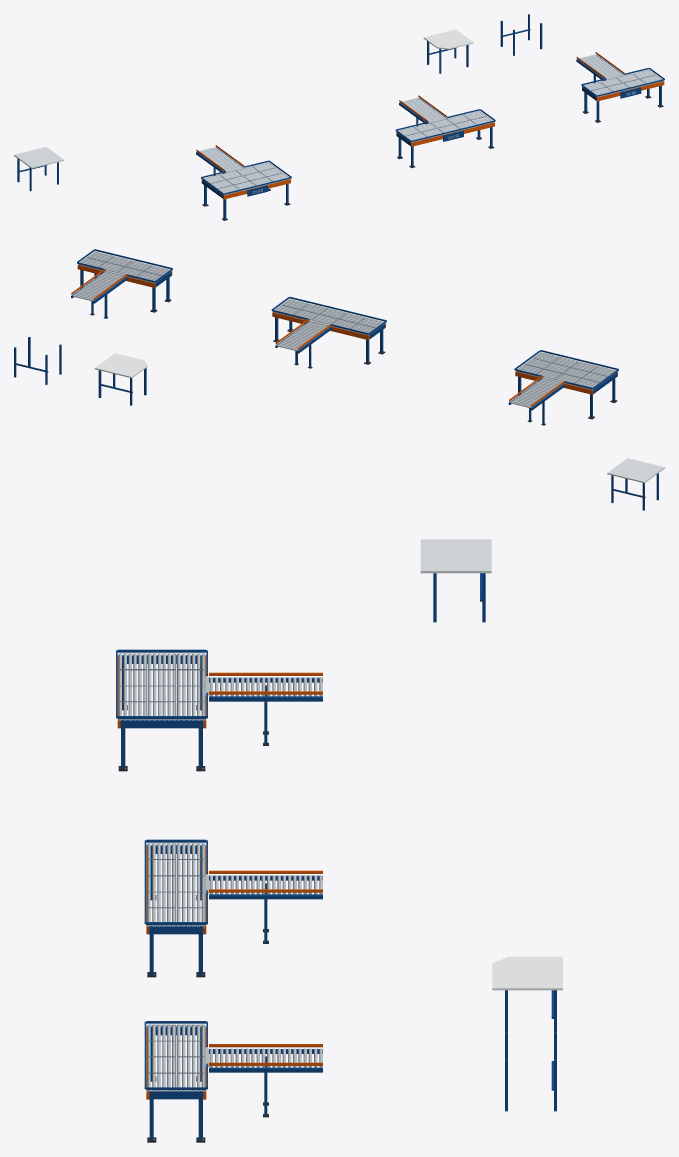
Rendered from visual_layout.glb.
3 renders of one model, top to bottom at view 1: azimuth 30°, elevation 25°; view 2: azimuth 150°, elevation 25°; view 3: azimuth 270°, elevation 25°, orthographic. The views are drawn at different scales.
Parts seen in each view (by area): view 1: VIS_Bench_top.001, VIS_Bench_top_robot_chamfer, VIS_QUEUE_Q3_INFEED, VIS_QUEUE_Q2_INFEED, VIS_QUEUE_Q4_INFEED, VIS_QUEUE_Q3_BEAM; view 2: VIS_Bench_top.001, VIS_Bench_top_robot_chamfer, VIS_QUEUE_Q3_INFEED, VIS_QUEUE_Q4_INFEED, VIS_QUEUE_Q2_INFEED; view 3: VIS_Bench_top.001, VIS_Bench_top_robot_chamfer, VIS_QUEUE_Q3_INFEED, VIS_QUEUE_Q2_INFEED, VIS_QUEUE_Q4_INFEED.
Boxes of the visible parts, <box> form: VIS_Bench_top.001: <box>14,147,63,168</box>; VIS_Bench_top_robot_chamfer: <box>423,29,473,49</box>; VIS_QUEUE_Q3_INFEED: <box>400,97,445,122</box>; VIS_QUEUE_Q2_INFEED: <box>197,147,242,172</box>; VIS_QUEUE_Q4_INFEED: <box>578,54,623,78</box>; VIS_QUEUE_Q3_BEAM: <box>411,122,494,146</box>; VIS_Bench_top.001: <box>607,458,664,483</box>; VIS_Bench_top_robot_chamfer: <box>94,353,147,378</box>; VIS_QUEUE_Q3_INFEED: <box>277,321,329,350</box>; VIS_QUEUE_Q4_INFEED: <box>72,271,125,301</box>; VIS_QUEUE_Q2_INFEED: <box>510,378,562,408</box>; VIS_Bench_top.001: <box>420,539,491,573</box>; VIS_Bench_top_robot_chamfer: <box>492,956,562,990</box>; VIS_QUEUE_Q3_INFEED: <box>209,875,322,894</box>; VIS_QUEUE_Q2_INFEED: <box>209,677,322,696</box>; VIS_QUEUE_Q4_INFEED: <box>209,1048,322,1067</box>.
Size of the model in its own units: 19.16 by 0.9175 by 6.57.
